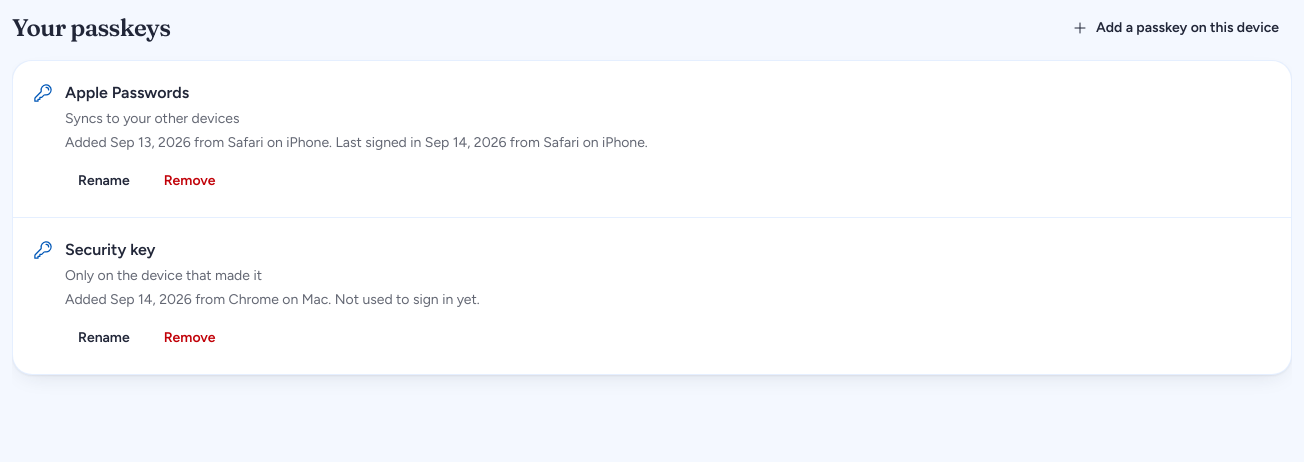
Test: PasskeyList › uses the gentler warning when other passkeys remain, and can be cancelled
This screenshot has width=1304, height=462.
Click the button with aria-label "Remove Security key". click: [190, 338]
box: [151,322,228,354]
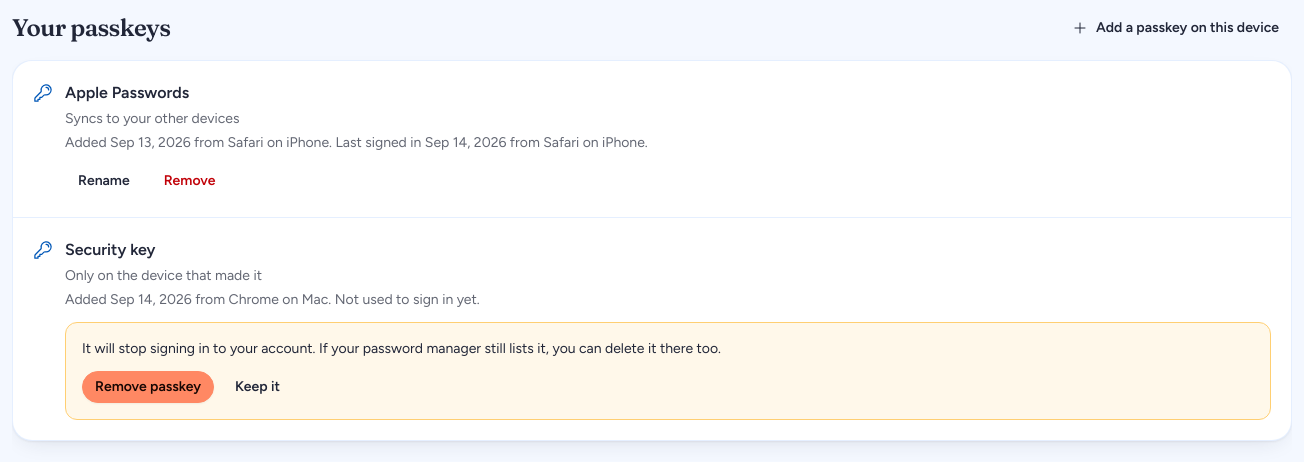
Check: the text "It will stop signing in to your account. If your password manager still lists it, you can delete it there too." is shown, box [82,340,721,357]
Click the button "Keep it". click: [257, 387]
box: [222,371,293,403]
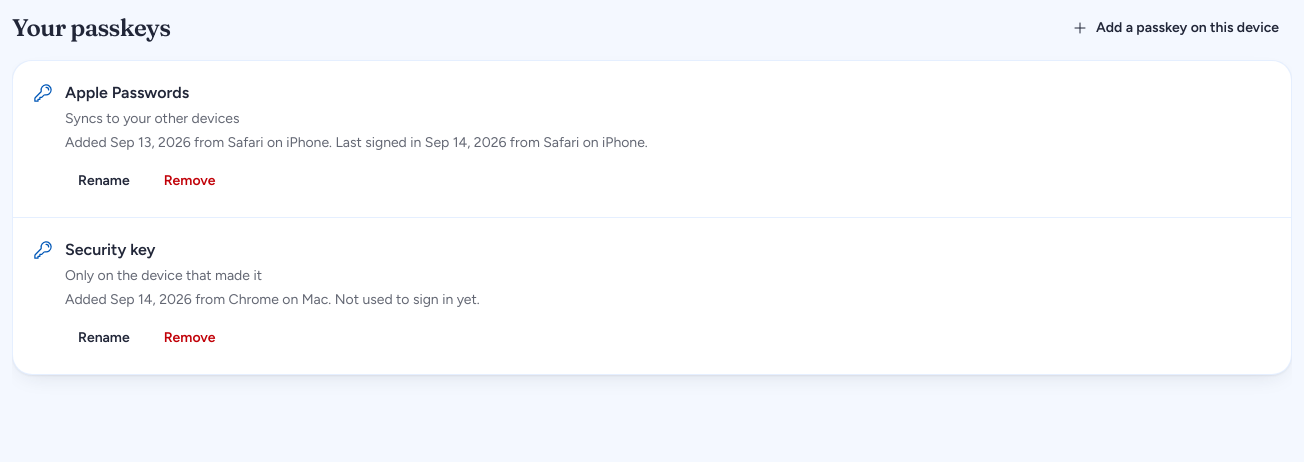
Check: the text "It will stop signing in to your account. If your password manager still lists it, you can delete it there too." is gone
